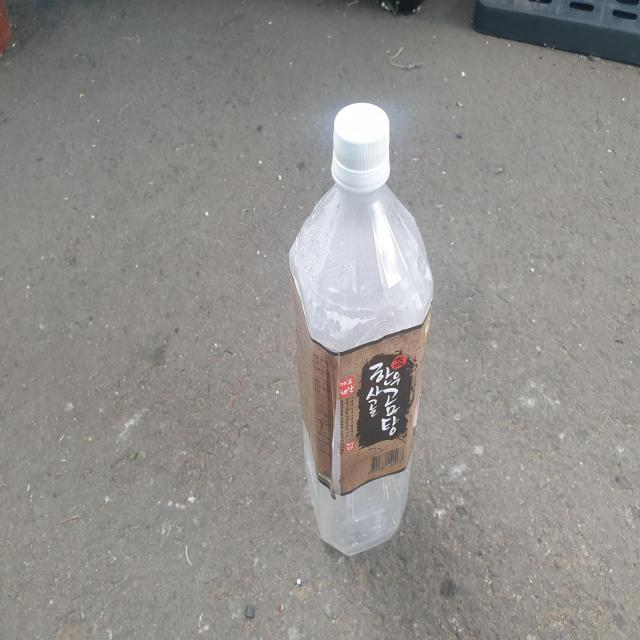plastic: (289, 102, 434, 555)
